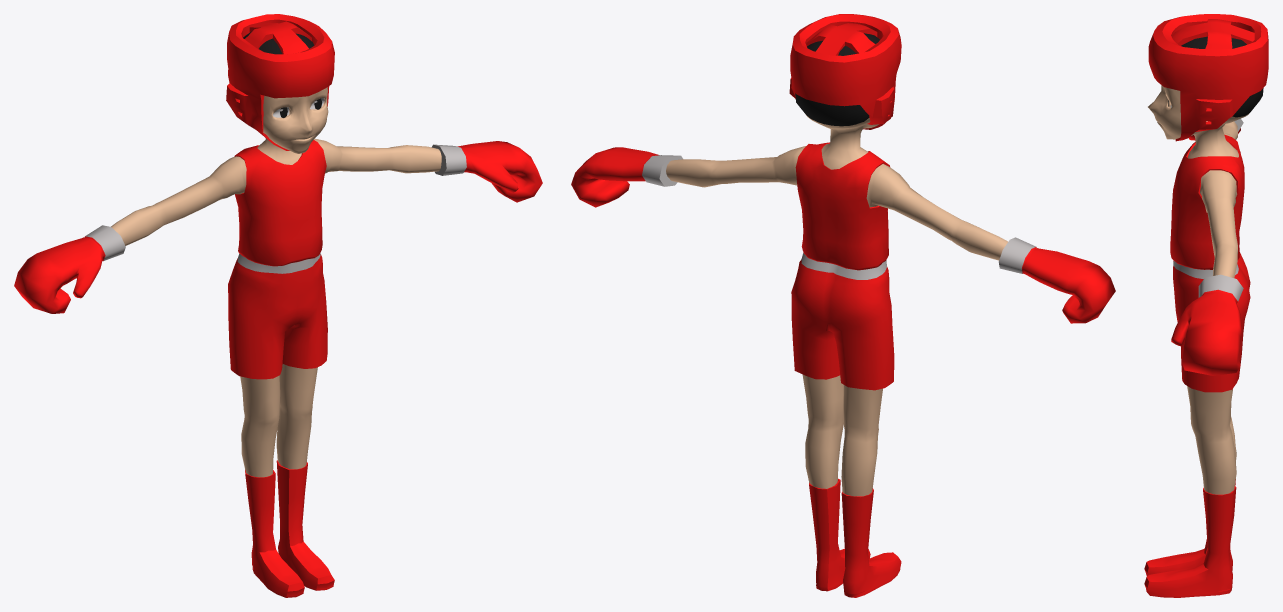
File: Mancharacter.FBX
3 renders of one model, left to right at view 1: azimuth 30°, elevation 25°; view 2: azimuth 150°, elevation 25°; view 3: azimuth 270°, elevation 25°, orthographic. The views are drawn at different scales.
Parts seen in each view (by area): view 1: 옷, Object001, 헤드기어, Cylinder002, Cylinder001, Box001, Box002; view 2: 옷, Object001, 헤드기어, Cylinder002, Cylinder001, Box002, Box001, 머리카락; view 3: 헤드기어, Object001, 옷, Cylinder001, Box001, Box002, 머리카락.
Part boxes in pixels (left/top/right/bottom): 옷: left=228, top=140, right=327, bottom=379; Object001: left=111, top=87, right=441, bottom=477; 헤드기어: left=226, top=14, right=334, bottom=150; Cylinder002: left=14, top=225, right=125, bottom=313; Cylinder001: left=431, top=141, right=542, bottom=202; Box001: left=276, top=460, right=334, bottom=590; Box002: left=245, top=470, right=304, bottom=597; 옷: left=791, top=142, right=894, bottom=390; Object001: left=666, top=99, right=1007, bottom=496; 헤드기어: left=789, top=14, right=901, bottom=129; Cylinder002: left=998, top=237, right=1115, bottom=323; Cylinder001: left=571, top=147, right=682, bottom=207; Box002: left=841, top=488, right=901, bottom=597; Box001: left=809, top=478, right=870, bottom=591; 머리카락: left=795, top=33, right=879, bottom=126; 헤드기어: left=1148, top=14, right=1268, bottom=141; Object001: left=1148, top=85, right=1249, bottom=494; 옷: left=1170, top=134, right=1250, bottom=392; Cylinder001: left=1171, top=274, right=1243, bottom=375; Box001: left=1144, top=486, right=1236, bottom=597; Box002: left=1144, top=479, right=1235, bottom=576; 머리카락: left=1181, top=36, right=1263, bottom=117.
Bounding box in the file's own units: 2788 × 2831 × 573.
